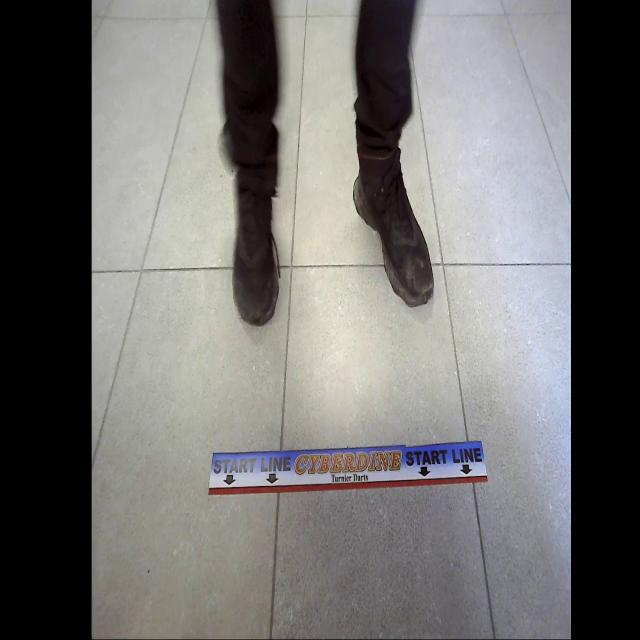foot: (352, 166, 434, 308), (229, 183, 283, 330)
